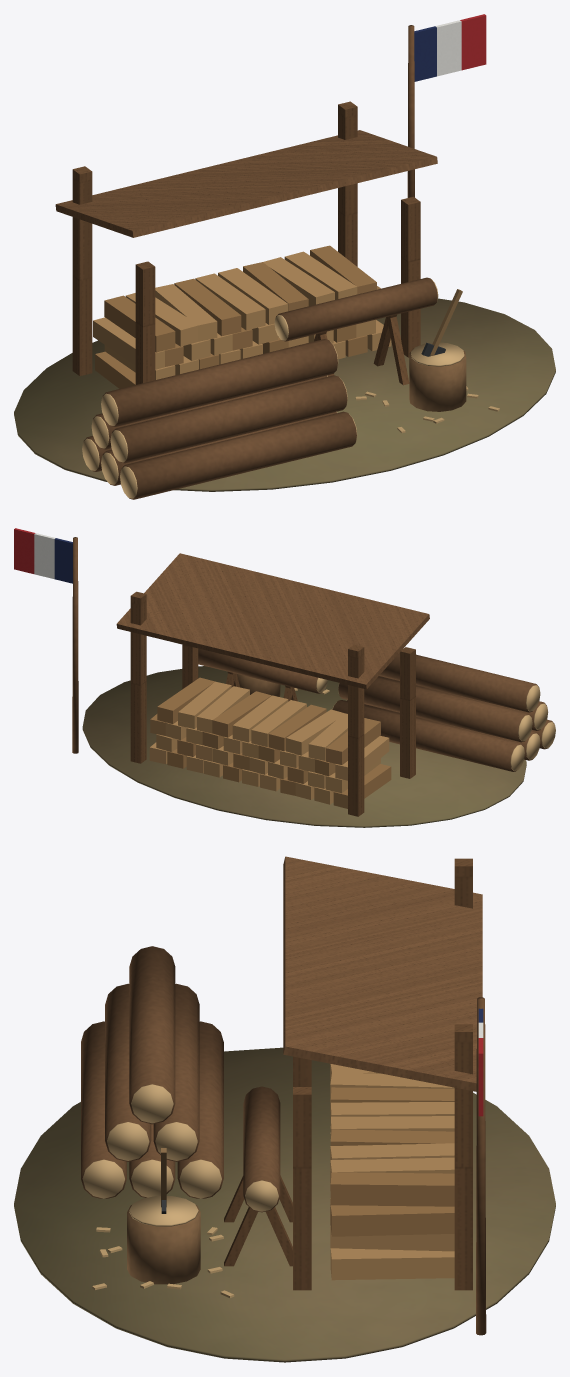
File: lumbercamp_fr.glb
The picture shows the model from 3 angles, top to bottom: view 1: azimuth 30°, elevation 25°; view 2: azimuth 150°, elevation 25°; view 3: azimuth 270°, elevation 25°; orthographic projection. The views are drawn at different scales.
Visible parts, largest first — view 1: lumbercamp_fr; view 2: lumbercamp_fr; view 3: lumbercamp_fr.
Boxes of the visible parts, bbox=[...] form: lumbercamp_fr: bbox=[14, 14, 555, 499]; lumbercamp_fr: bbox=[14, 528, 555, 827]; lumbercamp_fr: bbox=[14, 856, 555, 1362].
Bounding box in the file's own units: 6.75 × 3.22 × 4.7.
1 material, 1 textured.
